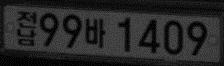0: (163, 19, 184, 55)
1: (115, 17, 136, 53)
4: (138, 18, 160, 53)
9: (38, 12, 59, 47), (61, 13, 82, 48), (186, 20, 207, 55)
바: (84, 17, 106, 48)
전남_V: (15, 10, 38, 47)
